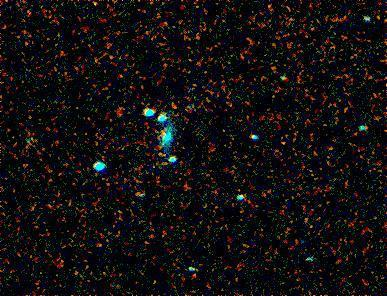star: (156, 117, 186, 147)
